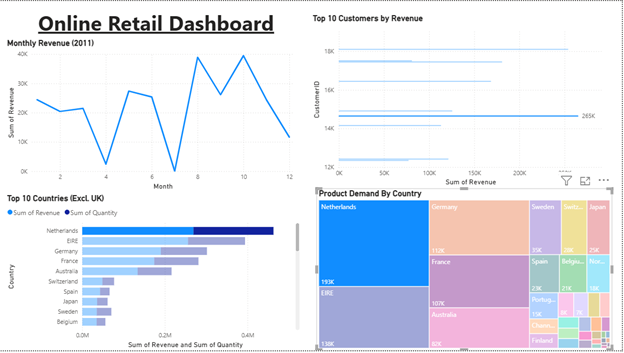

The page's visual inventory and layout, read from the dashboard file:
{"tool":"powerbi","page":{"name":"Page 1","canvas":[1280,720],"ordinal":0},"visuals":[{"type":"lineChart","title":"Monthly Revenue (2011)","fields":{"Category":["Table1.Month"],"Y":["Sum(Table1.Revenue )"]},"box":[9.6,76.8,601,318.4],"z":0},{"type":"barChart","title":"Top 10 Countries (Excl. UK)","fields":{"Category":["Table1.Country"],"Y":["Sum(Table1.Revenue )","Sum(Table1.Quantity)"]},"box":[9.6,395.2,612,325.2],"z":1000},{"type":"clusteredBarChart","title":"Top 10 Customers by  Revenue","fields":{"Category":["Table1.CustomerID"],"Y":["Sum(Table1.Revenue )"]},"box":[639.5,24.7,621.6,360.9],"z":2000},{"type":"treemap","title":"Product Demand By Country ","fields":{"Group":["Table1.Country"],"Values":["Sum(Table1.Quantity)"]},"box":[651.8,385.6,609.3,334.8],"z":3000},{"type":"textbox","box":[20.6,9.6,601,67.2],"z":4000}]}

Visuals, with their boxes in screenshot pixels (x1, y1, x2, y2), scaled from the page's 1280x720 canvas onto the 624x353 screenshot:
"Monthly Revenue (2011)" lineChart: (5,38,298,194)
"Top 10 Countries (Excl. UK)" barChart: (5,194,303,352)
"Top 10 Customers by  Revenue" clusteredBarChart: (312,12,615,189)
"Product Demand By Country " treemap: (318,189,615,352)
textbox: (10,5,303,38)
